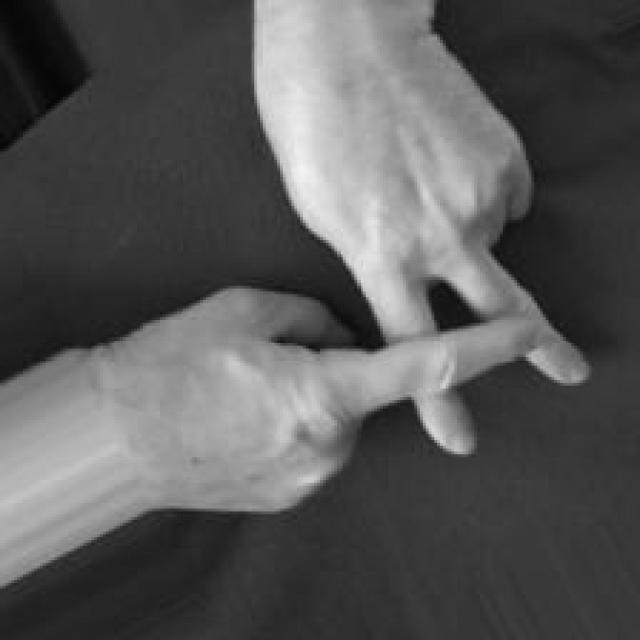A: (112, 29, 589, 512)
